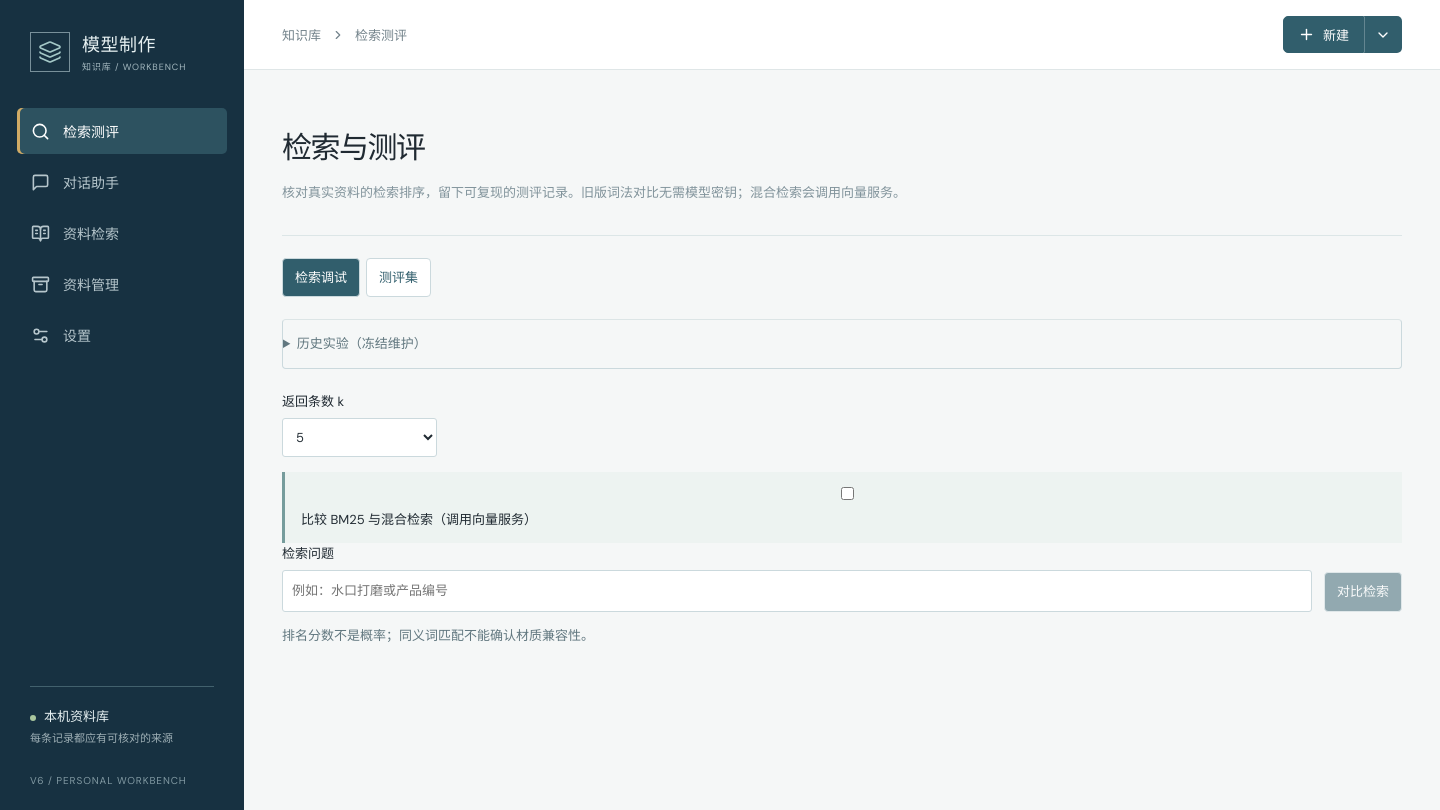
keeps only core evaluation tabs and a collapsed historical experiment entry
The image size is (1440, 810).
Expected: the button "LangSmith 实验" is not shown
Step 1. Click the heading "历史实验（冻结维护）" → click(362, 344), box [297,335,427,352]
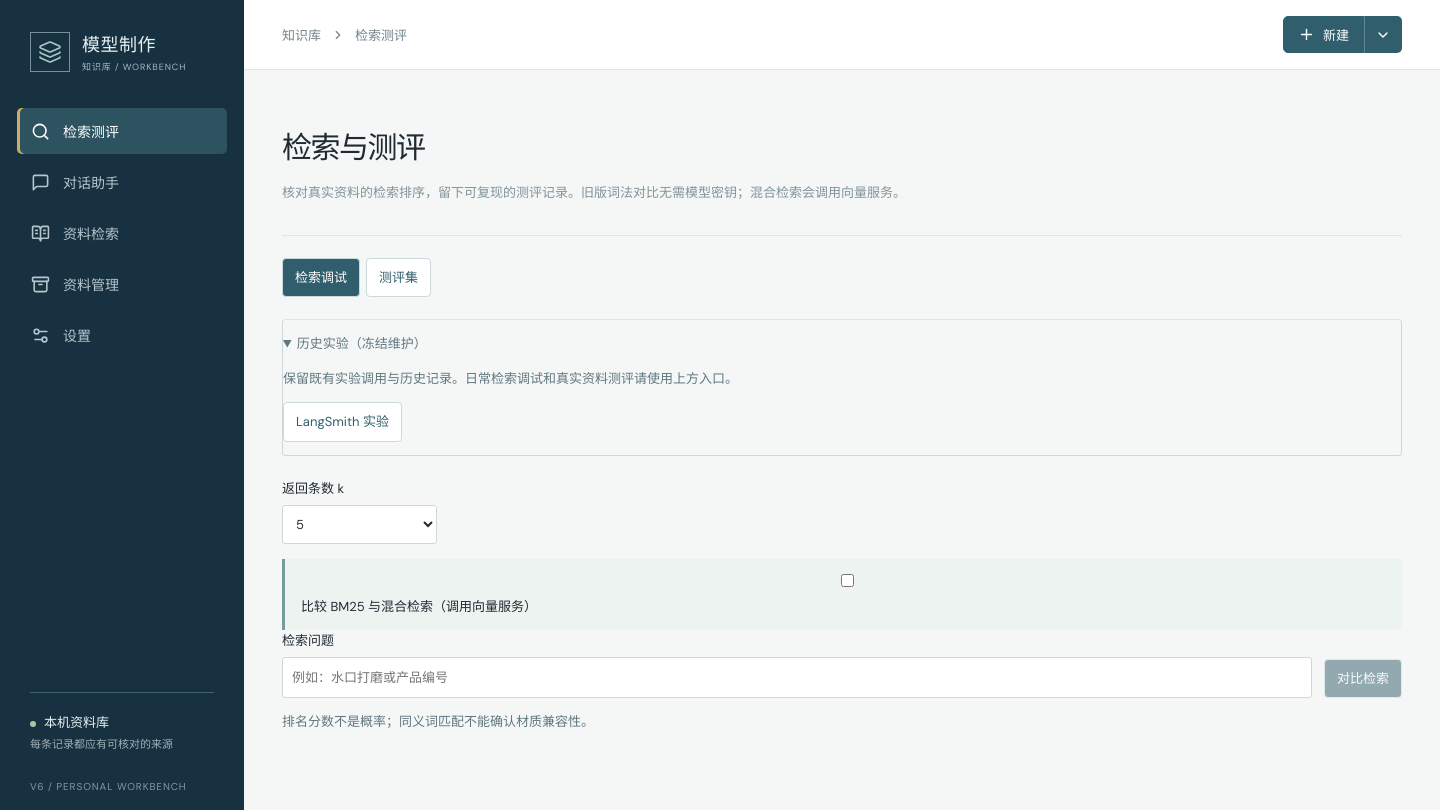
Expected: the button "LangSmith 实验" is shown, [283,402,402,442]
